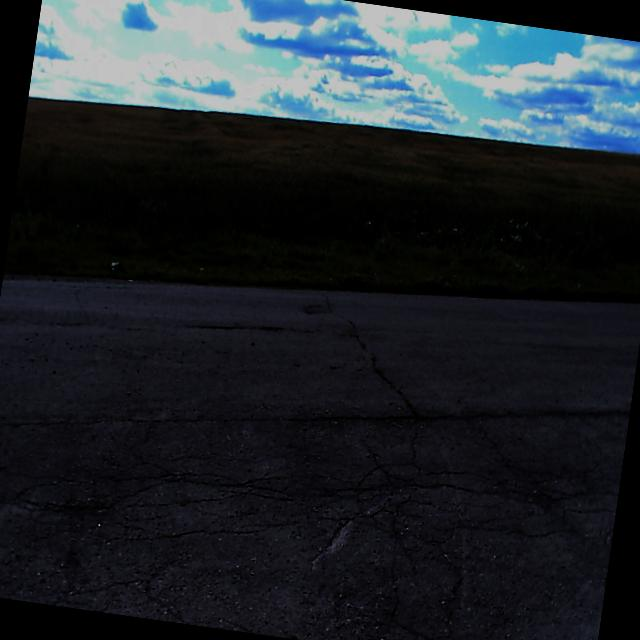road: (0, 278, 640, 640)
